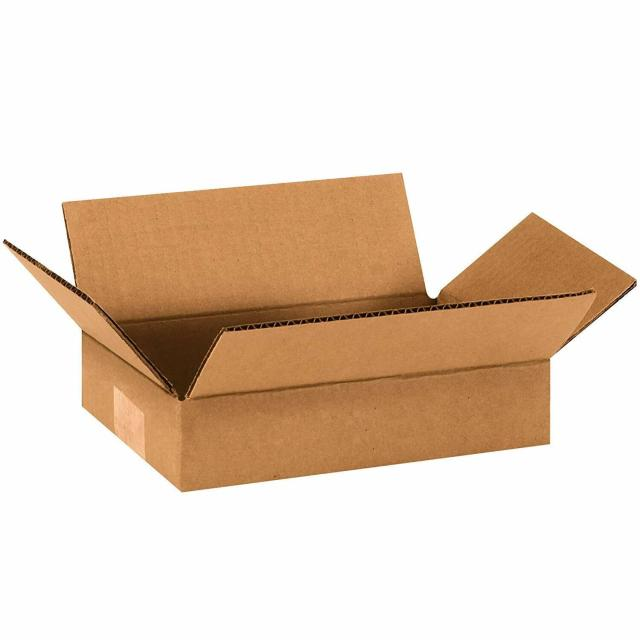cardboard: (7, 176, 634, 494)
